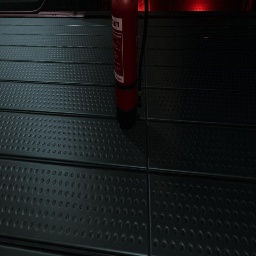FireExtinguisher ]: (111, 0, 148, 126)
